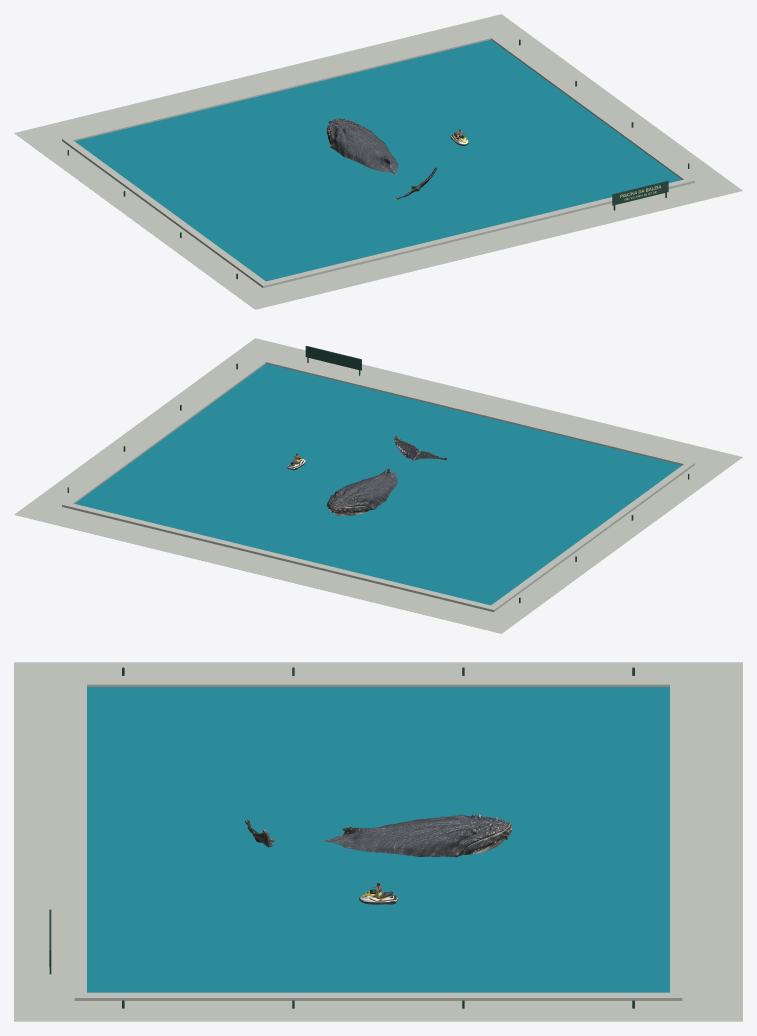
The model's file is secret-whale-pool.glb.
3 renders of one model, top to bottom at view 1: azimuth 30°, elevation 25°; view 2: azimuth 150°, elevation 25°; view 3: azimuth 270°, elevation 25°, orthographic. The views are drawn at different scales.
Parts seen in each view (by area): view 1: Whale_Pool_Water, Whale_Pool_Walkway, Pool_Coping_End.001, Humpback_Whale_Tripo, Pool_Coping_End, Pool_Coping_Side, Pool_Coping_Side.001, Whale_Secret_Sign; view 2: Whale_Pool_Water, Whale_Pool_Walkway, Pool_Coping_End.001, Pool_Coping_End, Humpback_Whale_Tripo, Pool_Coping_Side, Pool_Coping_Side.001, Whale_Secret_Sign; view 3: Whale_Pool_Water, Whale_Pool_Walkway, Humpback_Whale_Tripo, Pool_Coping_Side.001, Pool_Coping_Side, Pool_Coping_End, Pool_Coping_End.001.
Boxes of the visible parts, <box> form: Whale_Pool_Water: <box>75,40,681,281</box>; Whale_Pool_Walkway: <box>14,14,742,309</box>; Pool_Coping_End.001: <box>69,35,490,141</box>; Humpback_Whale_Tripo: <box>326,118,436,199</box>; Pool_Coping_End: <box>266,179,687,286</box>; Pool_Coping_Side: <box>62,137,269,287</box>; Pool_Coping_Side.001: <box>487,33,694,184</box>; Whale_Secret_Sign: <box>612,180,668,205</box>; Whale_Pool_Water: <box>75,364,681,605</box>; Whale_Pool_Walkway: <box>14,338,742,633</box>; Pool_Coping_End.001: <box>69,503,490,610</box>; Pool_Coping_End: <box>266,359,687,465</box>; Humpback_Whale_Tripo: <box>326,435,447,515</box>; Pool_Coping_Side: <box>487,461,694,611</box>; Pool_Coping_Side.001: <box>62,357,269,508</box>; Whale_Secret_Sign: <box>305,345,361,370</box>; Whale_Pool_Water: <box>87,687,669,992</box>; Whale_Pool_Walkway: <box>14,662,742,1021</box>; Humpback_Whale_Tripo: <box>245,814,511,857</box>; Pool_Coping_Side.001: <box>74,992,682,1000</box>; Pool_Coping_Side: <box>74,679,682,686</box>; Pool_Coping_End: <box>74,684,86,992</box>; Pool_Coping_End.001: <box>670,684,682,992</box>.
Bounding box in the file's own units: 70 × 10.04 × 60.
Materials: 10 (3 with a texture image).
